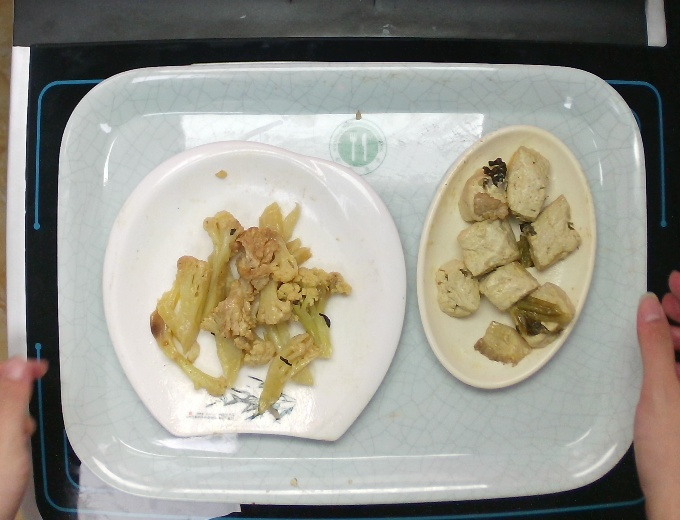JYsf-Mian_Pan: (95, 136, 410, 449)
JYsf-Tuo_Yuan_Wan: (410, 119, 601, 400)
